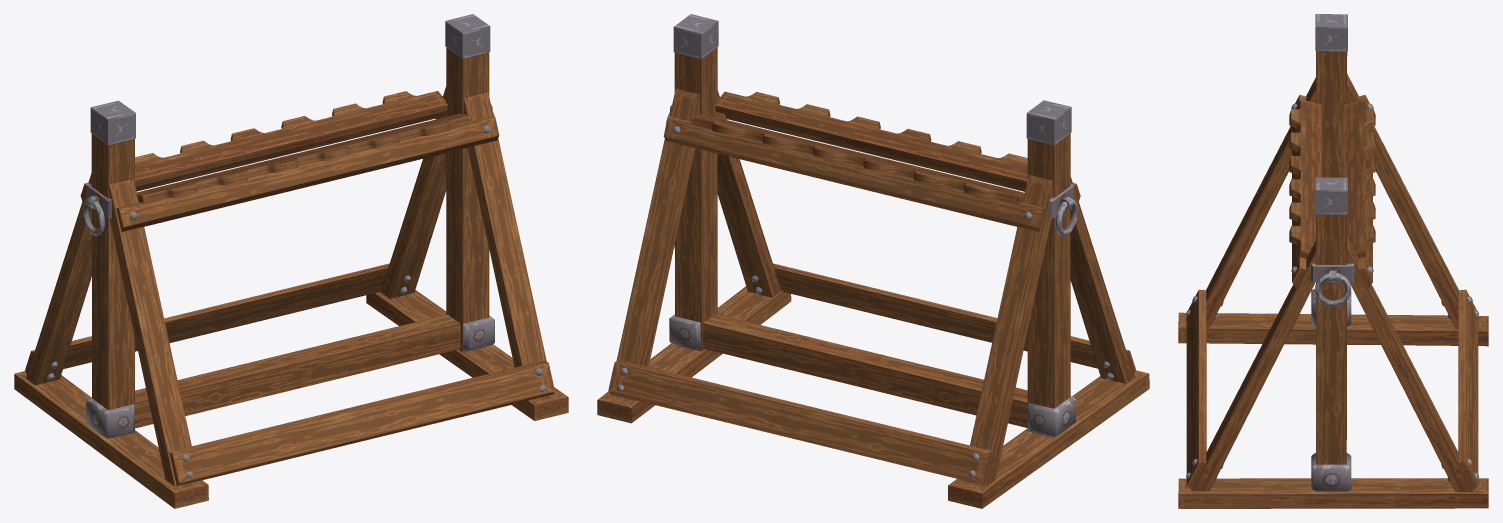
The model's file is WeaponStand.gltf.
The picture shows the model from 3 angles, left to right: view 1: azimuth 30°, elevation 25°; view 2: azimuth 150°, elevation 25°; view 3: azimuth 270°, elevation 25°; orthographic projection. The views are drawn at different scales.
Parts seen in each view (by area): view 1: WeaponStand; view 2: WeaponStand; view 3: WeaponStand.
Part boxes in pixels (x1,y1,x2,y2): WeaponStand: [14, 14, 568, 508]; WeaponStand: [597, 14, 1149, 508]; WeaponStand: [1178, 14, 1488, 508].
Bounding box in the file's own units: 1.39 × 1.11 × 0.9831.
Materials: 2 (2 with a texture image).
